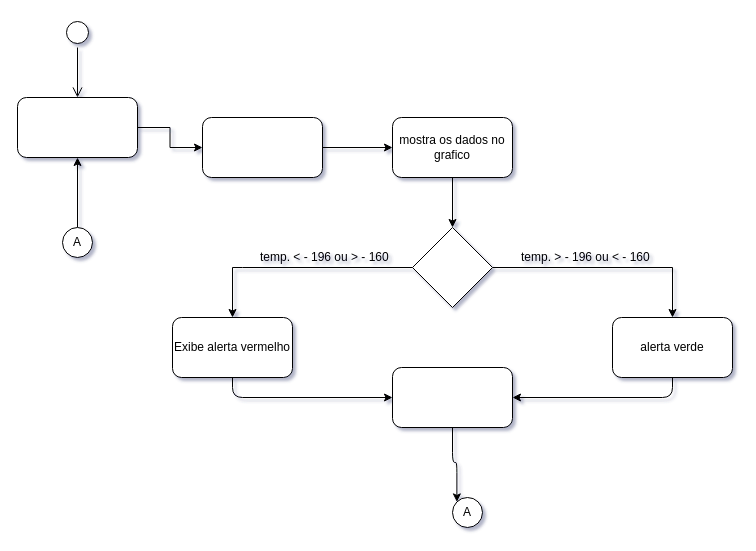
The diagram is 756 pixels wide and 551 high, and some of its shapes have lost their labels. The shapes that lost their labels are listed below. From the top down, each one's centre as x and y in pixels, then its label:
At point (77, 127): "recebe os dados".
At point (262, 147): "armazenar os dados no banco de dados".
At point (452, 397): "exibe os graficos no site".
